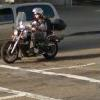Motorcycle: (1, 16, 64, 74)
